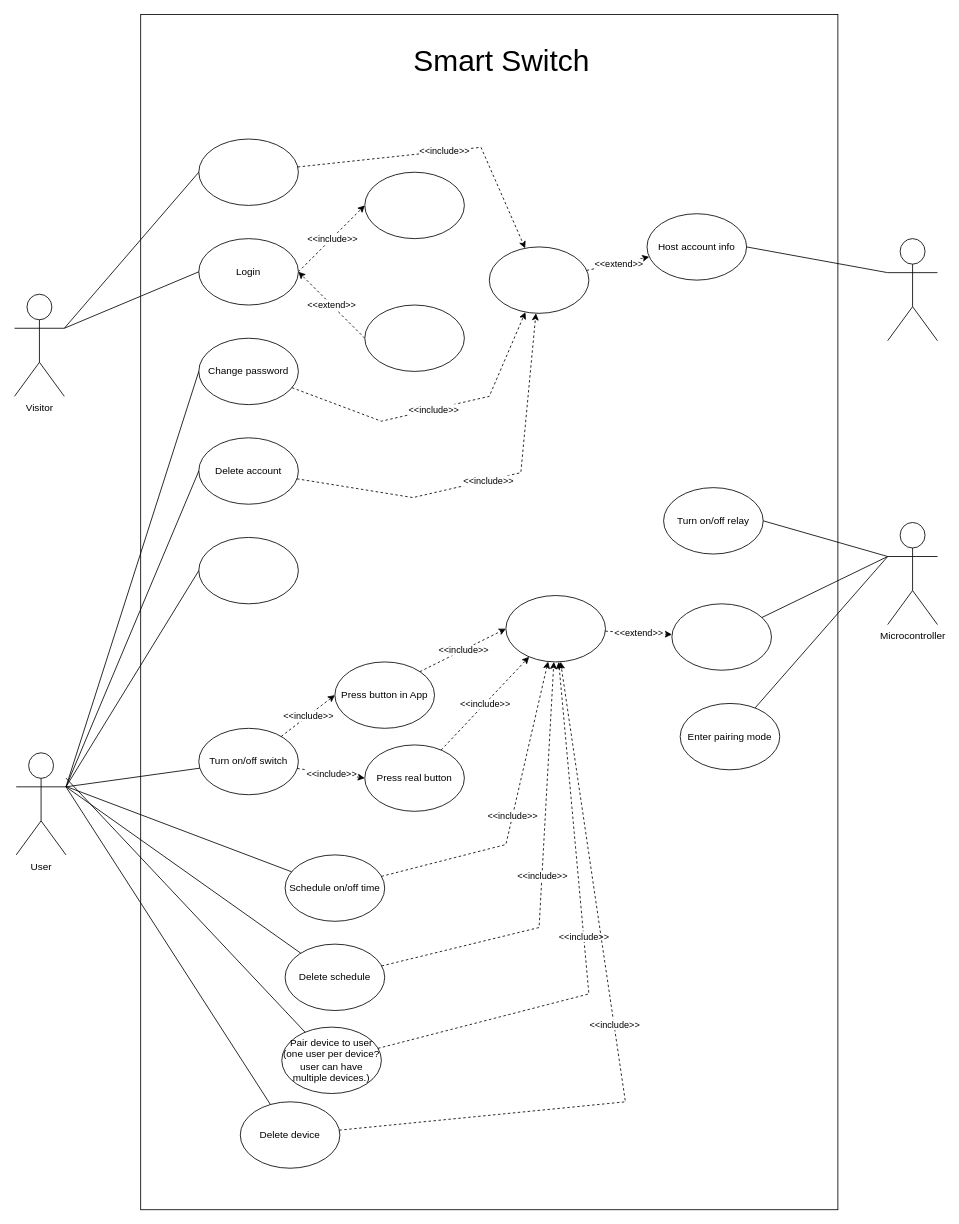
This 959x1224 diagram has some shape labels left out. The centre of each missing label's shape, as x and y in pixels:
Create account: pixel 248 171
Data Base: pixel 912 289
Display login error: pixel 414 337
Host HTTP server: pixel 721 636
Logout: pixel 248 570
Update account info: pixel 538 279
Update link to pass info from/to app: pixel 555 628
Verify password: pixel 414 205
